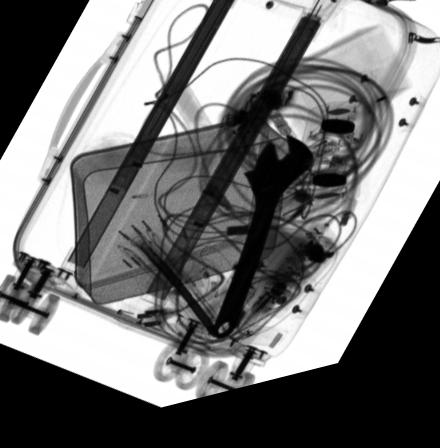Wrench: (210, 148, 314, 349)
